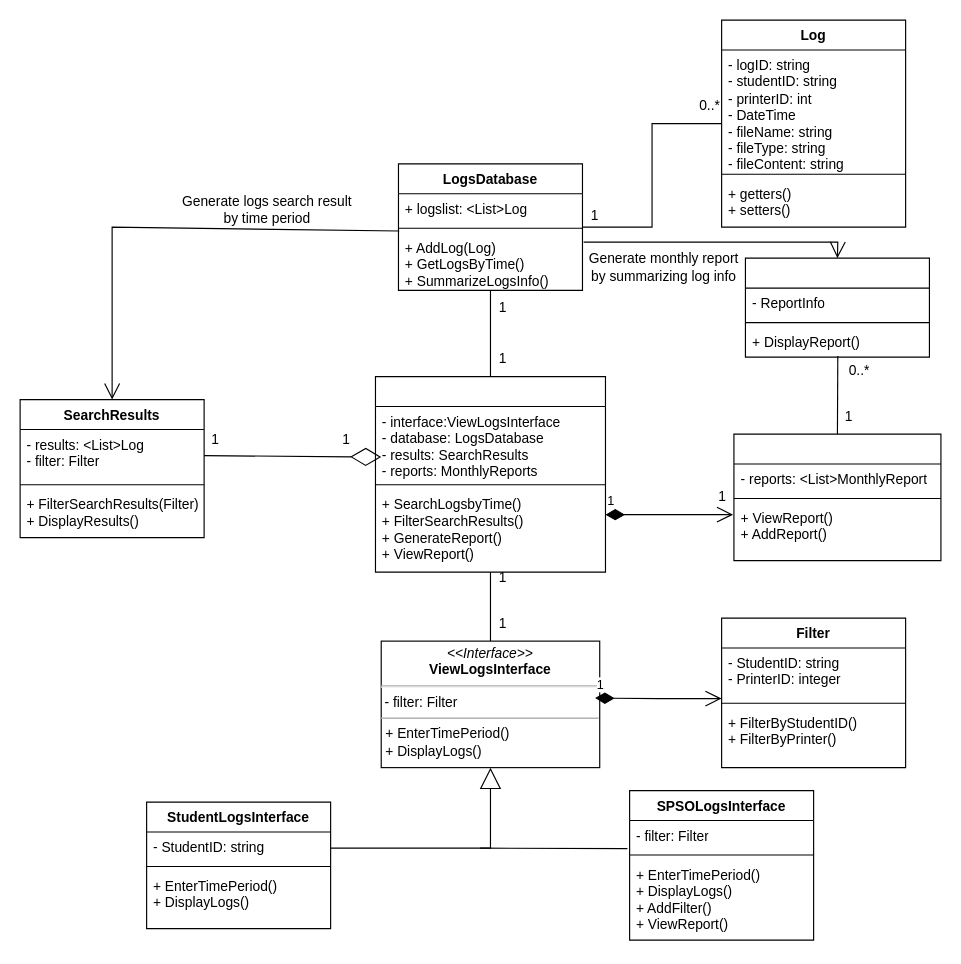
The diagram is 961 pixels wide and 964 high, and some of its shapes have lost their labels. Each missing label, with the box of its shape:
MonthlyReport: (744, 257, 929, 357)
MonthlyReports: (733, 433, 941, 561)
ViewLogsController: (374, 375, 605, 572)
